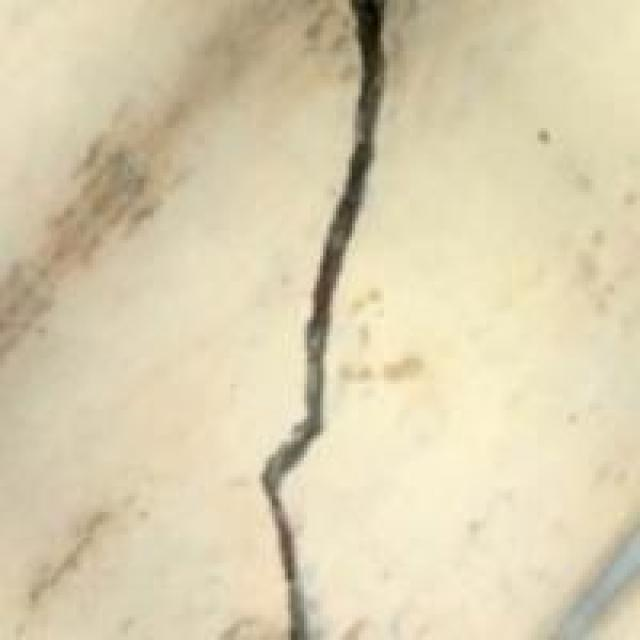crack: (202, 3, 464, 637)
